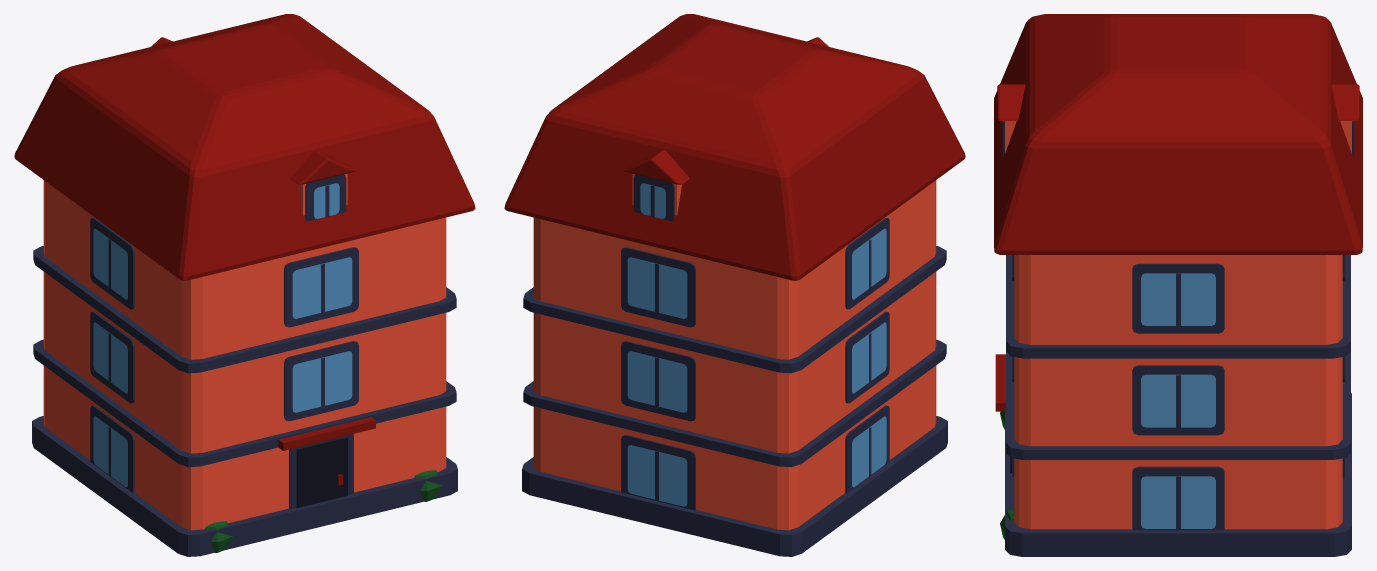
File: house-1x1-3f-mansard-c.glb
3 renders of one model, left to right at view 1: azimuth 30°, elevation 25°; view 2: azimuth 150°, elevation 25°; view 3: azimuth 270°, elevation 25°, orthographic. The views are drawn at different scales.
Visible parts, largest first — view 1: house-1x1-3f-mansard-c; view 2: house-1x1-3f-mansard-c; view 3: house-1x1-3f-mansard-c.
Boxes of the visible parts, x1=… form: house-1x1-3f-mansard-c: x1=14, y1=14, x2=475, y2=556; house-1x1-3f-mansard-c: x1=504, y1=14, x2=965, y2=556; house-1x1-3f-mansard-c: x1=994, y1=14, x2=1362, y2=556.
Size of the model in its own units: 0.9876 by 1.3 by 0.9876.
1 material, 1 textured.
